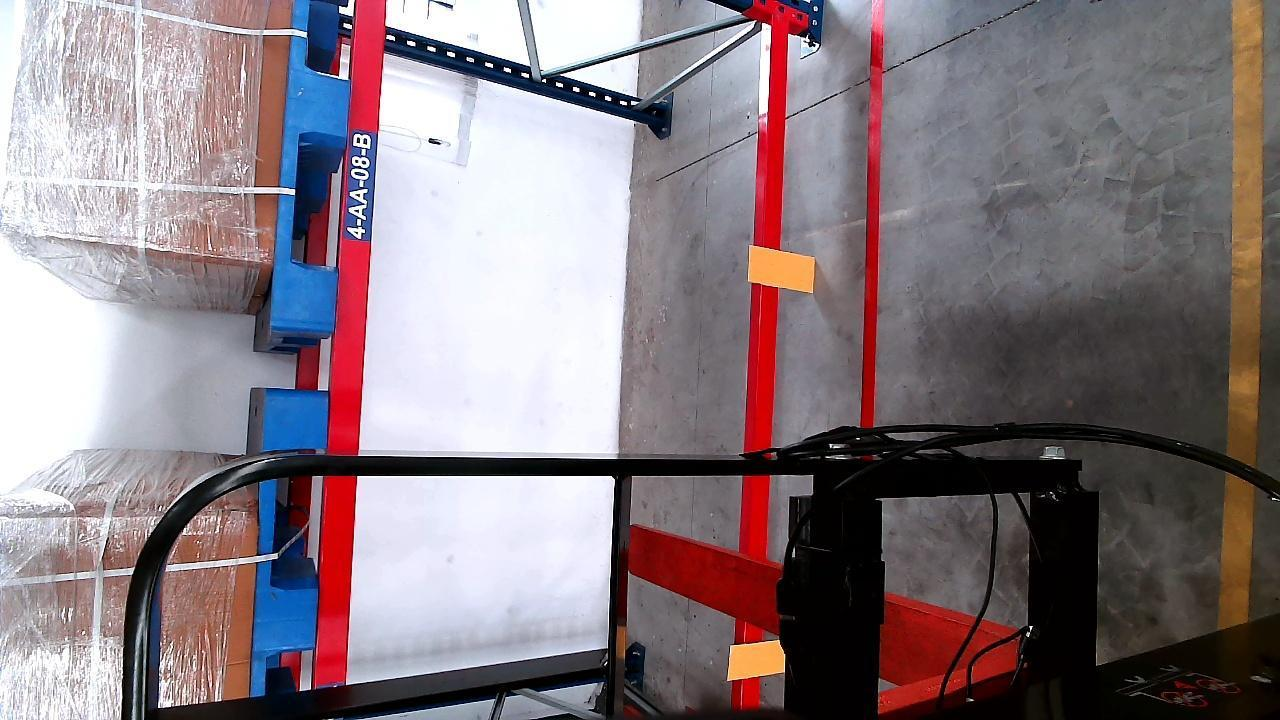h_rack: (314, 0, 385, 688), (741, 20, 793, 708)
orange_strip: (752, 247, 816, 290), (729, 635, 787, 682)
red_line: (862, 7, 886, 429)
small_pallet: (274, 0, 358, 340), (255, 401, 328, 691)
yellow_line: (1226, 0, 1265, 640)
